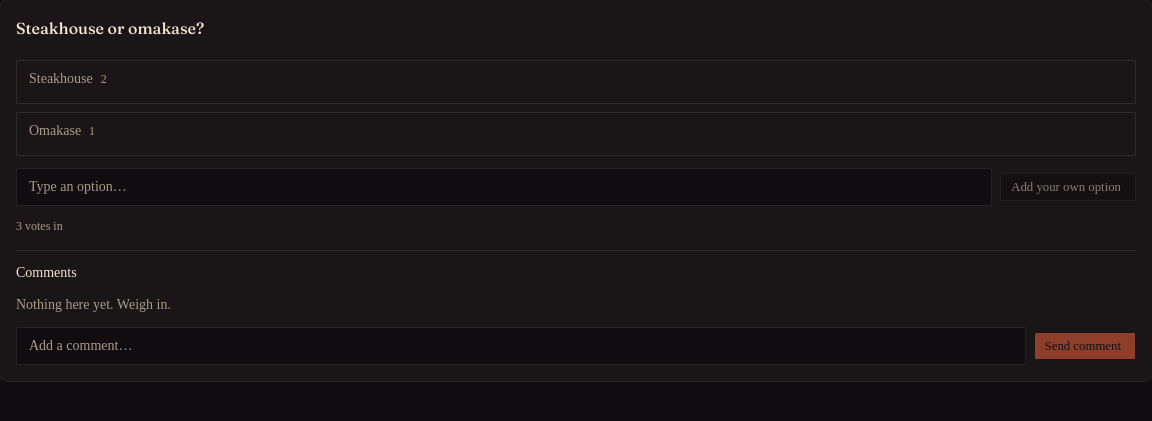
Scenario: PollCard write-in composer (#621) › surfaces the error copy when a write-in add is rejected (poll full)
The image size is (1152, 421).
Type "One more, please" into the field with placeholder "Type an option…" at (504, 187), box [16,168,992,206]
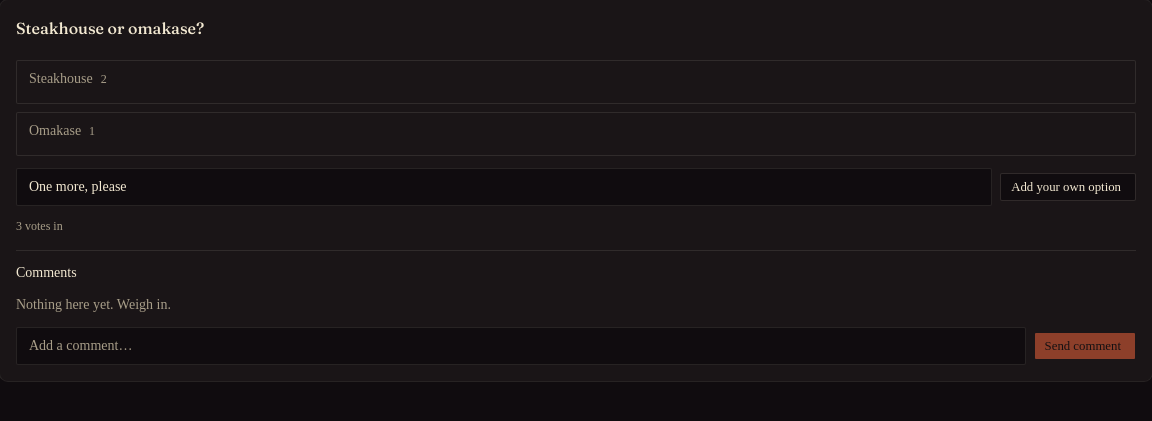
Click the button "Add your own option" at (1068, 187), box [1000,173,1136,201]
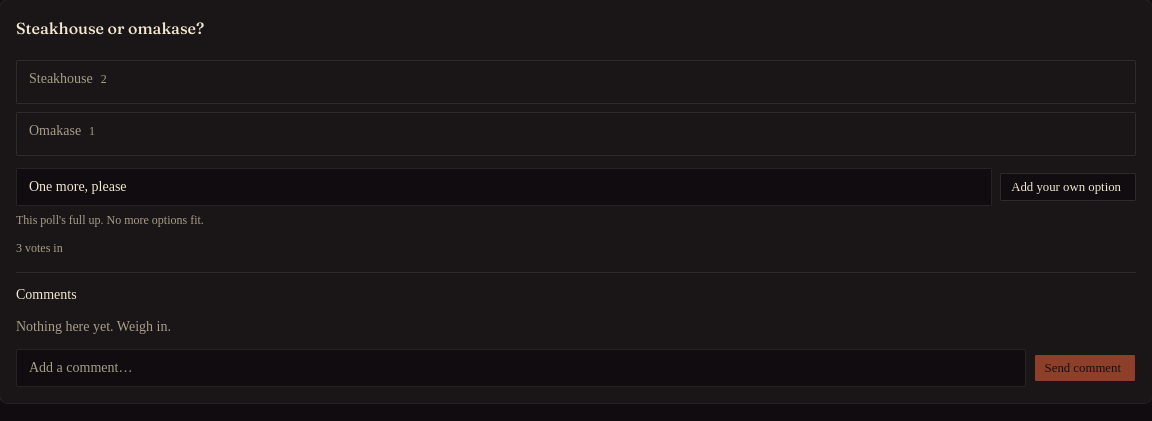
Result: the message reads "This poll's full up. No more options fit." at [16,213,204,227]
